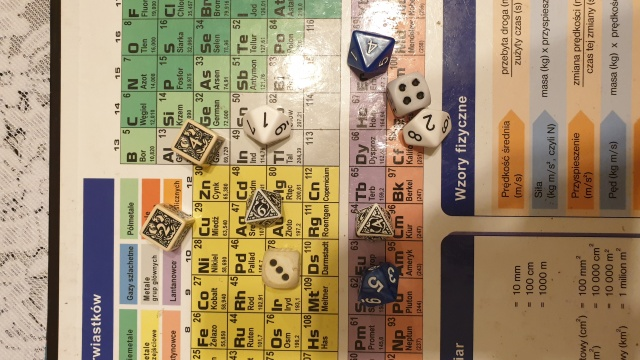d10-1: (239, 104, 295, 146)
d10-2: (395, 108, 458, 153)
d10-4: (343, 28, 392, 78)
d10-5: (355, 260, 404, 313)
d6-3: (262, 249, 301, 286)
d6-4: (384, 71, 432, 116)
d6p-2: (140, 202, 195, 254)
d6p-4: (169, 119, 226, 170)
d8p-4: (354, 203, 395, 245)
d8p-6: (240, 186, 284, 232)
